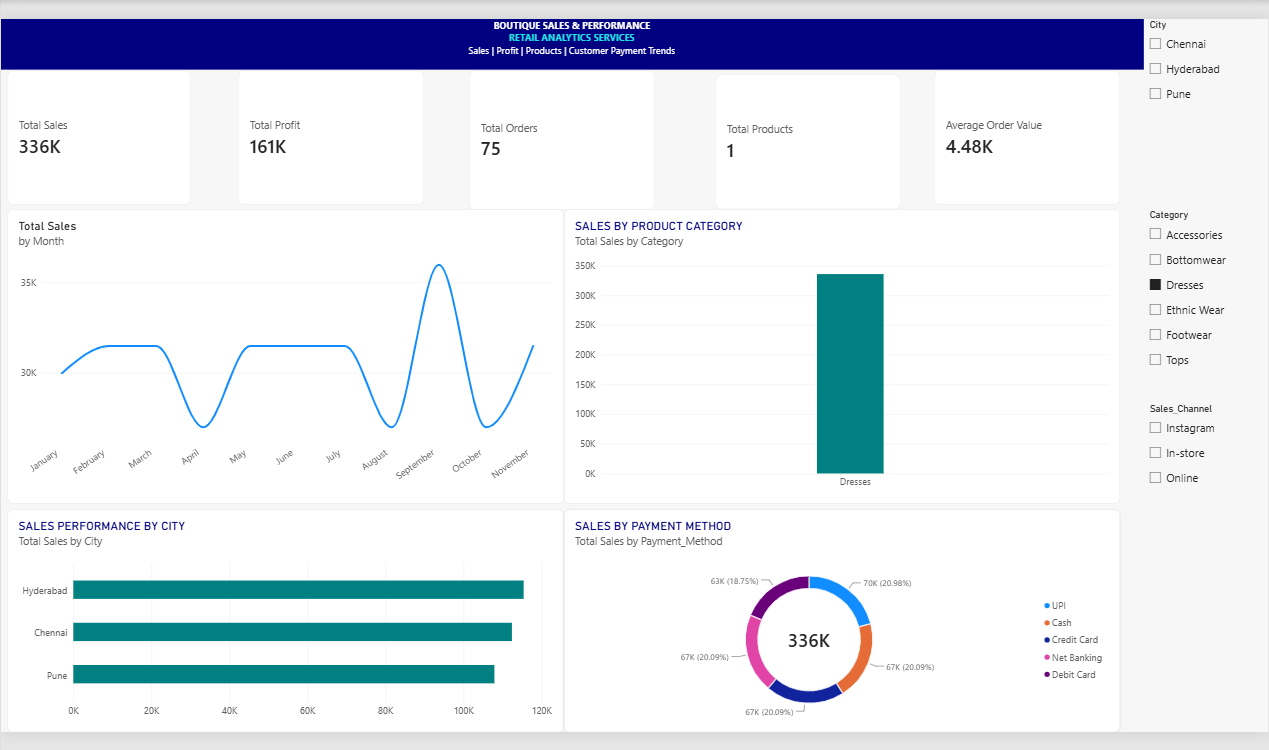

This screenshot's page, from the dashboard's own definition file:
{"tool":"powerbi","page":{"name":"Page 1","canvas":[1920,1080],"ordinal":0},"visuals":[{"type":"cardVisual","fields":{"Data":["Table1.Total Sales"]},"box":[11.3,76.5,277.8,204.1],"z":0},{"type":"cardVisual","fields":{"Data":["Table1.Total Profit"]},"box":[360,76.5,280.6,204.1],"z":1},{"type":"cardVisual","fields":{"Data":["Table1.Total Orders"]},"box":[711.5,76.5,280.6,212.6],"z":2},{"type":"cardVisual","fields":{"Data":["Table1.Total Products"]},"box":[1082.8,85,280.6,204.1],"z":3},{"type":"cardVisual","fields":{"Data":["Table1.Average Order Value"]},"box":[1414.5,76.5,280.6,204.1],"z":4},{"type":"lineChart","fields":{"Category":["Table1.Order_Date.Variation.Date Hierarchy.Month"],"Y":["Table1.Total Sales"]},"box":[11.3,289.1,841.9,445],"z":5},{"type":"clusteredColumnChart","title":"SALES BY PRODUCT CATEGORY","fields":{"Category":["Table1.Category"],"Y":["Table1.Total Sales"]},"box":[853.2,289.1,841.9,445],"z":6},{"type":"clusteredBarChart","title":"SALES PERFORMANCE BY CITY","fields":{"Category":["Table1.City"],"Y":["Table1.Total Sales"]},"box":[11.3,742.7,841.9,337.3],"z":7},{"type":"donutChart","title":"SALES BY PAYMENT METHOD","fields":{"Category":["Table1.Payment_Method"],"Y":["Table1.Total Sales"]},"box":[853.2,742.7,841.9,337.3],"z":8},{"type":"slicer","fields":{"Values":["Table1.City"]},"box":[1732,0,189.9,280.6],"z":9},{"type":"slicer","fields":{"Values":["Table1.Category"]},"box":[1732,289.1,187.1,292],"z":10},{"type":"slicer","fields":{"Values":["Table1.Sales_Channel"]},"box":[1732,581.1,187.1,198.4],"z":11},{"type":"textbox","box":[0,0,1732,76.5],"z":13}]}

Visuals, with their boxes on the page's 1920x1080 design canvas (x1, y1, x2, y2). These are canvas units, not pixel positions in the 1269x750 screenshot, which may show the page scaled, cropped or inside an application window:
cardVisual - Table1.Total Sales: select_region(11, 76, 289, 281)
cardVisual - Table1.Total Profit: select_region(360, 76, 641, 281)
cardVisual - Table1.Total Orders: select_region(712, 76, 992, 289)
cardVisual - Table1.Total Products: select_region(1083, 85, 1363, 289)
cardVisual - Table1.Average Order Value: select_region(1414, 76, 1695, 281)
lineChart - Table1.Order_Date.Variation.Date Hierarchy.Month x Table1.Total Sales: select_region(11, 289, 853, 734)
"SALES BY PRODUCT CATEGORY" clusteredColumnChart: select_region(853, 289, 1695, 734)
"SALES PERFORMANCE BY CITY" clusteredBarChart: select_region(11, 743, 853, 1080)
"SALES BY PAYMENT METHOD" donutChart: select_region(853, 743, 1695, 1080)
slicer - Table1.City: select_region(1732, 0, 1922, 281)
slicer - Table1.Category: select_region(1732, 289, 1919, 581)
slicer - Table1.Sales_Channel: select_region(1732, 581, 1919, 780)
textbox: select_region(0, 0, 1732, 76)
